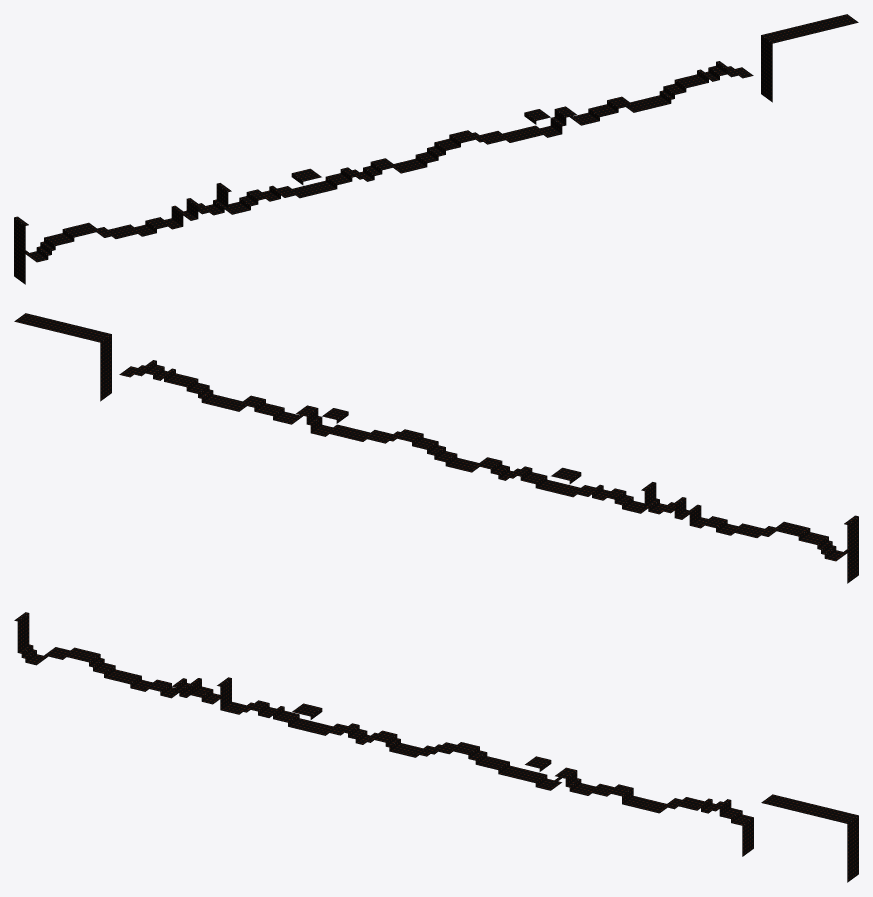
File: Luna2Rachadura04.glb
3 views of the same model, one above another, from view 1: azimuth 30°, elevation 25°; view 2: azimuth 150°, elevation 25°; view 3: azimuth 330°, elevation 25° (orthographic).
Visible parts, largest first — view 1: Setor_1, Setor_4, Setor_6, Setor_2, Setor_5, Setor_3, Setor_0, Setor_-1; view 2: Setor_1, Setor_4, Setor_6, Setor_2, Setor_5, Setor_3, Setor_0, Setor_-1; view 3: Setor_6, Setor_0, Setor_4, Setor_2, Setor_1, Setor_5, Setor_3.
Part boxes in pixels (<box>): Setor_1: <box>135,183,265,235</box>; Setor_4: <box>495,98,625,142</box>; Setor_6: <box>735,14,858,102</box>; Setor_2: <box>254,161,385,201</box>; Setor_5: <box>615,61,745,112</box>; Setor_3: <box>375,130,505,173</box>; Setor_0: <box>14,216,145,262</box>; Setor_-1: <box>14,217,25,284</box>; Setor_1: <box>607,482,737,534</box>; Setor_4: <box>247,397,377,441</box>; Setor_6: <box>14,313,137,401</box>; Setor_2: <box>487,460,618,500</box>; Setor_5: <box>127,360,257,411</box>; Setor_3: <box>367,429,497,472</box>; Setor_0: <box>727,515,858,561</box>; Setor_-1: <box>847,516,858,583</box>; Setor_6: <box>735,794,858,882</box>; Setor_0: <box>14,612,145,688</box>; Setor_4: <box>495,756,625,796</box>; Setor_2: <box>254,702,385,744</box>; Setor_1: <box>134,677,265,714</box>; Setor_5: <box>615,786,745,823</box>; Setor_3: <box>375,731,505,769</box>.
Bounding box in the file's own units: 231 × 15.6 × 5.6.
Materials: 1 (1 with a texture image).
